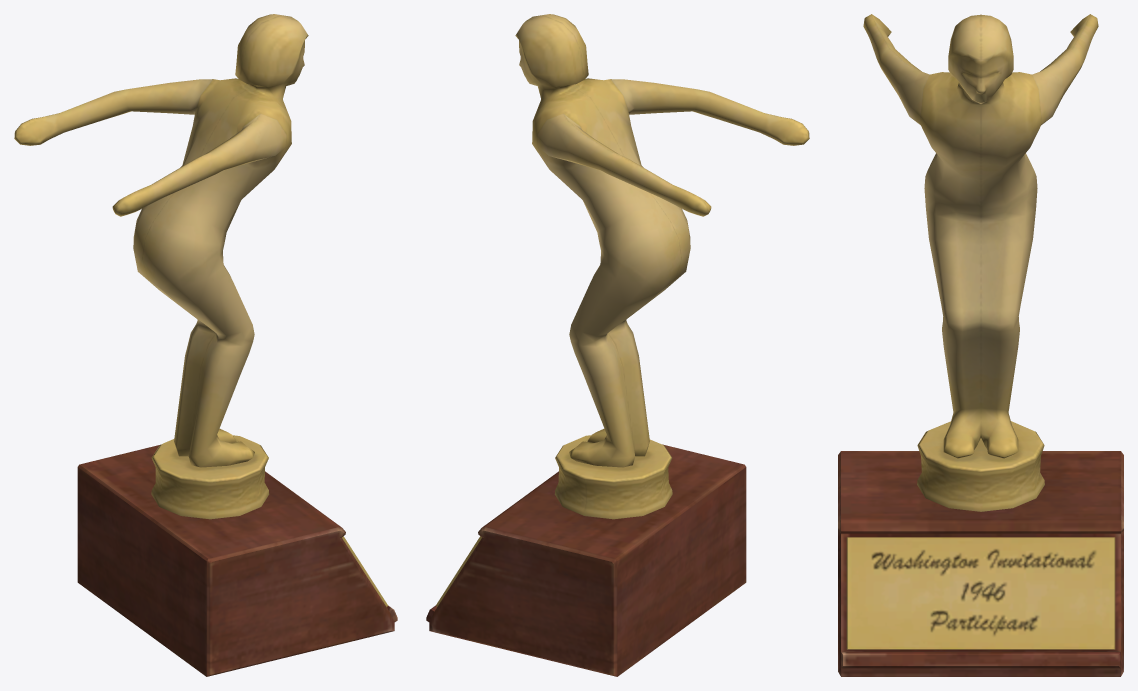
File: trophy.glb
The picture shows the model from 3 angles, left to right: view 1: azimuth 30°, elevation 25°; view 2: azimuth 150°, elevation 25°; view 3: azimuth 270°, elevation 25°; orthographic projection. The views are drawn at different scales.
Parts seen in each view (by area): view 1: MollySwimTrophy_a; view 2: MollySwimTrophy_a; view 3: MollySwimTrophy_a.
Part boxes in pixels (bbox=[...]): MollySwimTrophy_a: bbox=[14, 14, 397, 676]; MollySwimTrophy_a: bbox=[426, 14, 809, 676]; MollySwimTrophy_a: bbox=[838, 14, 1123, 676].
Bounding box in the file's own units: 0.1265 × 0.2606 × 0.1072.
1 material, 1 textured.
